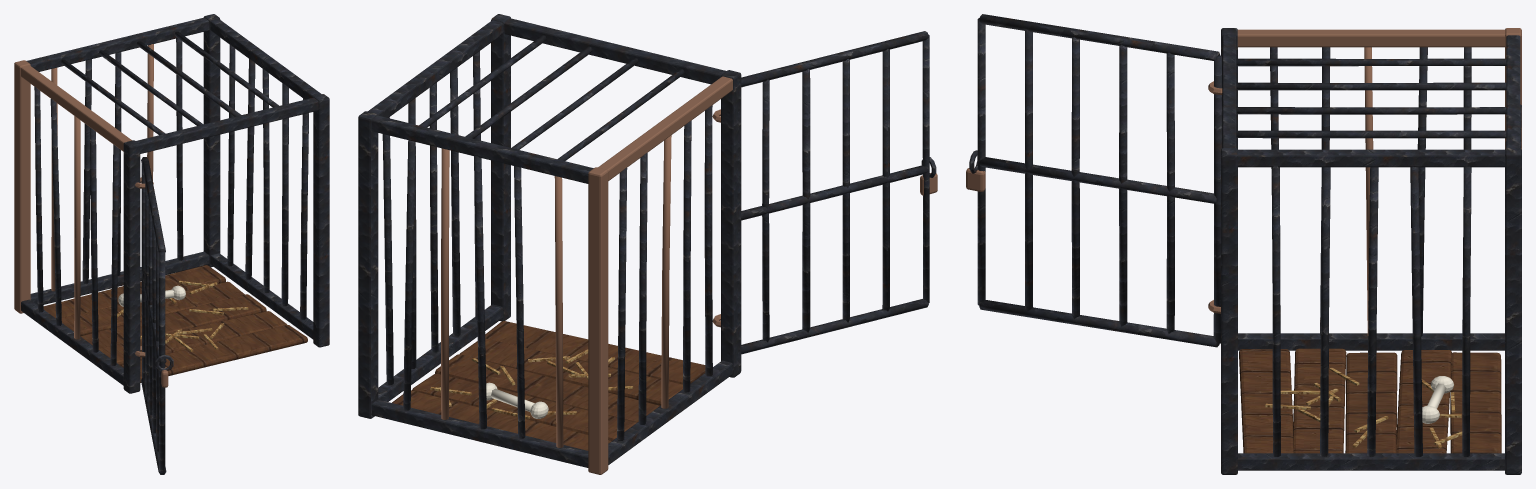
File: cage_floor_open.glb
The picture shows the model from 3 angles, left to right: view 1: azimuth 30°, elevation 25°; view 2: azimuth 150°, elevation 25°; view 3: azimuth 270°, elevation 25°; orthographic projection. The views are drawn at different scales.
Parts seen in each view (by area): view 1: model; view 2: model; view 3: model.
Part boxes in pixels (x1,y1,x2,y2): model: (14,14,329,474); model: (358,14,937,474); model: (966,14,1521,474).
Size of the model in its own units: 1.41 by 1.26 by 1.96.
Materials: 5 (3 with a texture image).
